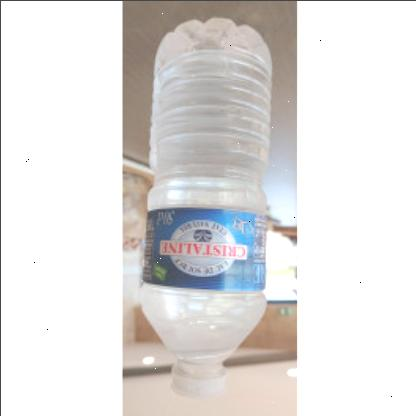Plastic Bottle: (140, 19, 272, 401)
